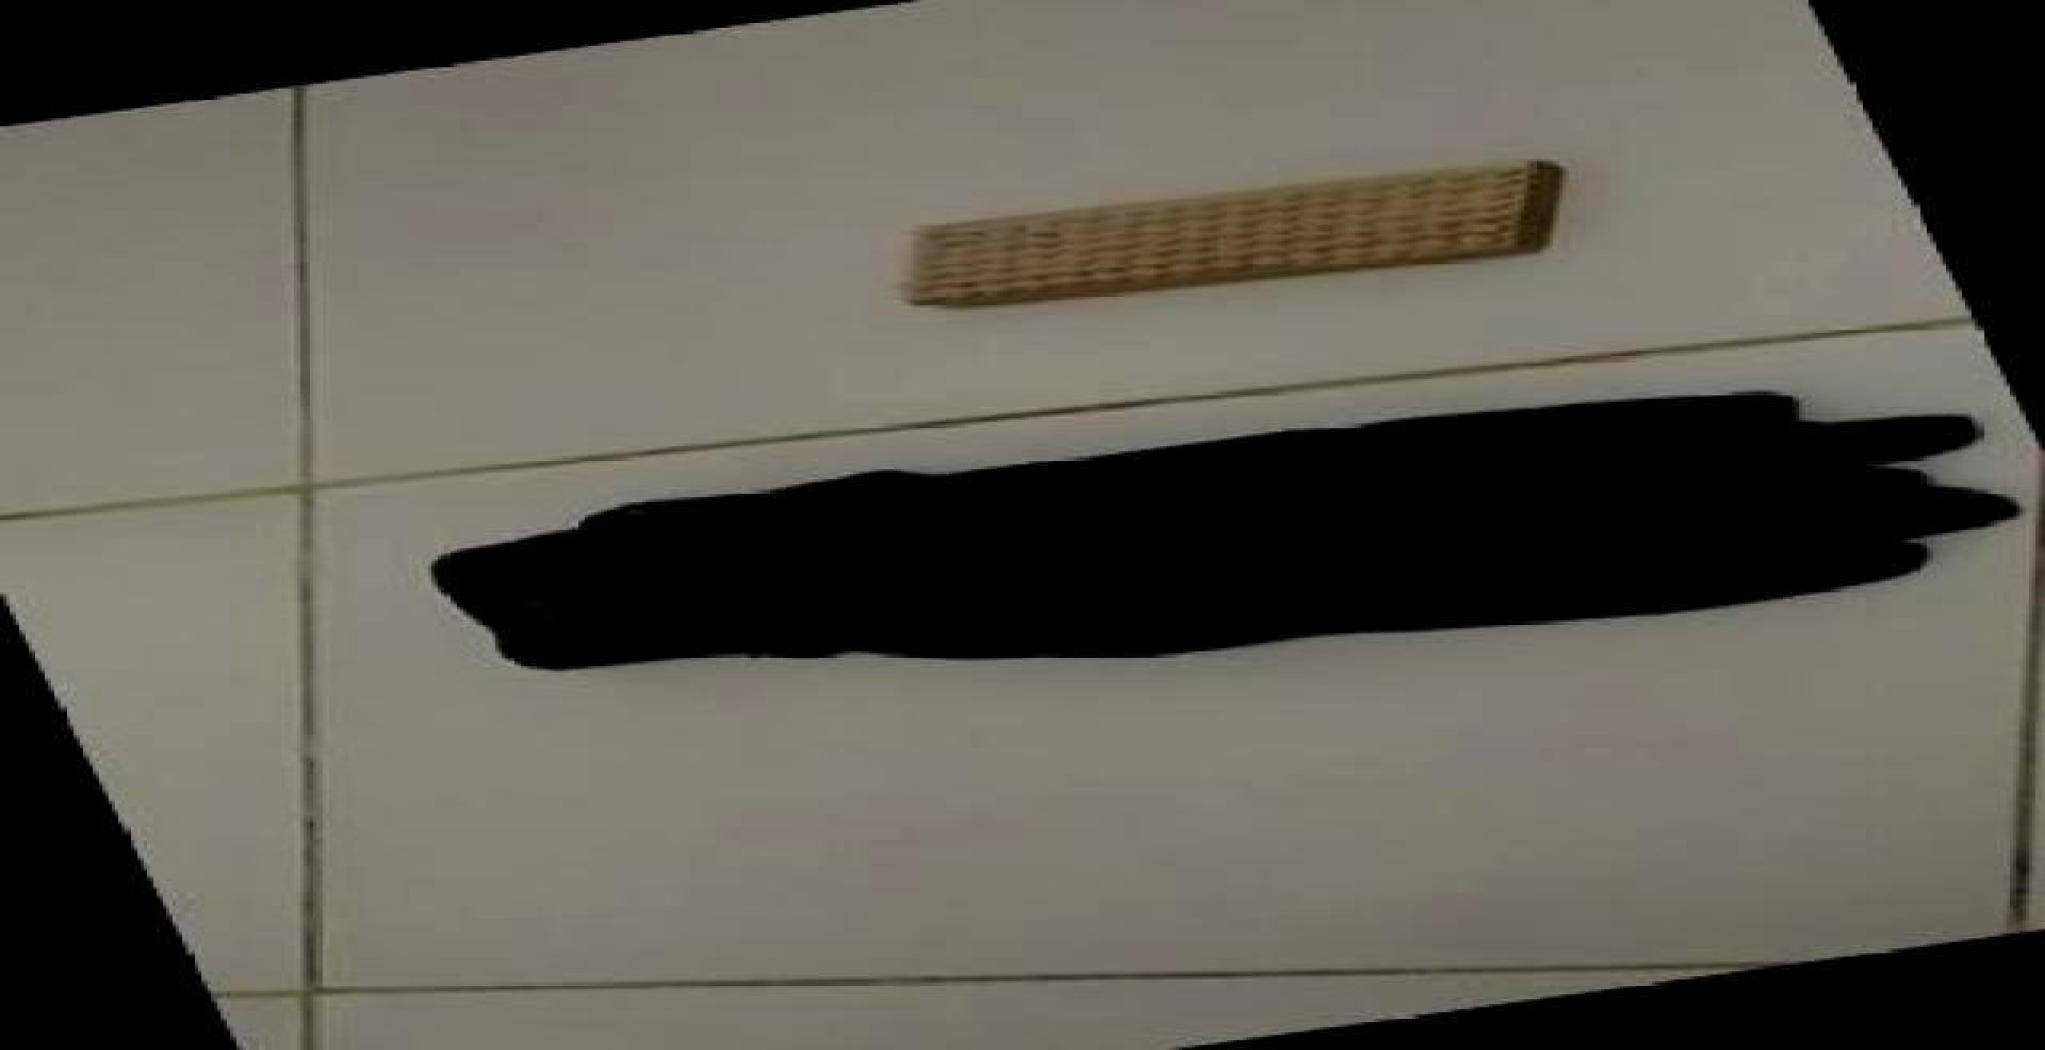gloved: (425, 386, 2020, 672)
